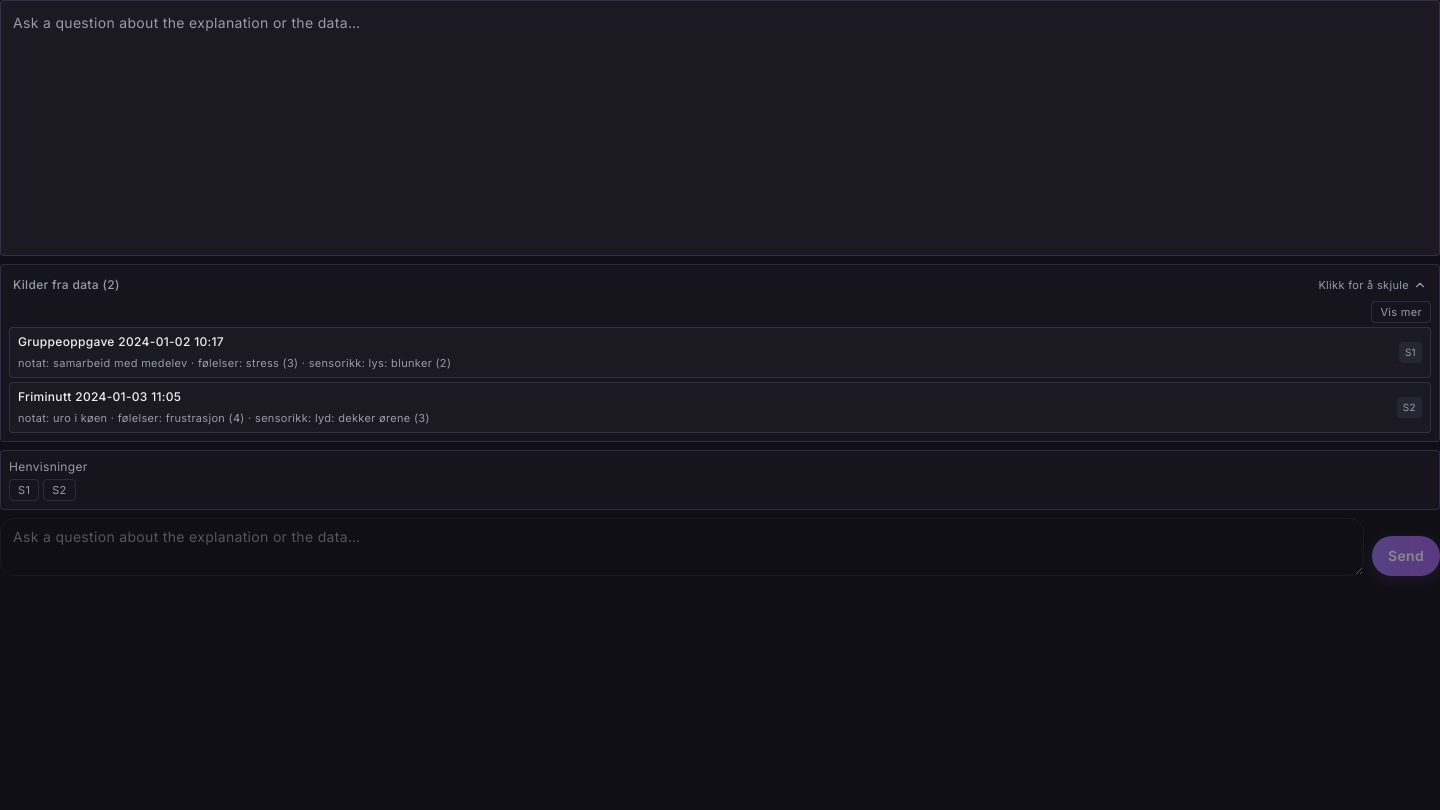
ExplanationChat citations and drawer › renders sources and opens drawer when clicking a source item
The image size is (1440, 810).
Expected: the text "Kilder fra data (2)" is shown, [13,277,120,293]
Note: Click first source button (by aria-label)
Click the button with aria-label "Åpne detaljer for Gruppeoppgave": x=121, y=342 [9,327,1431,378]
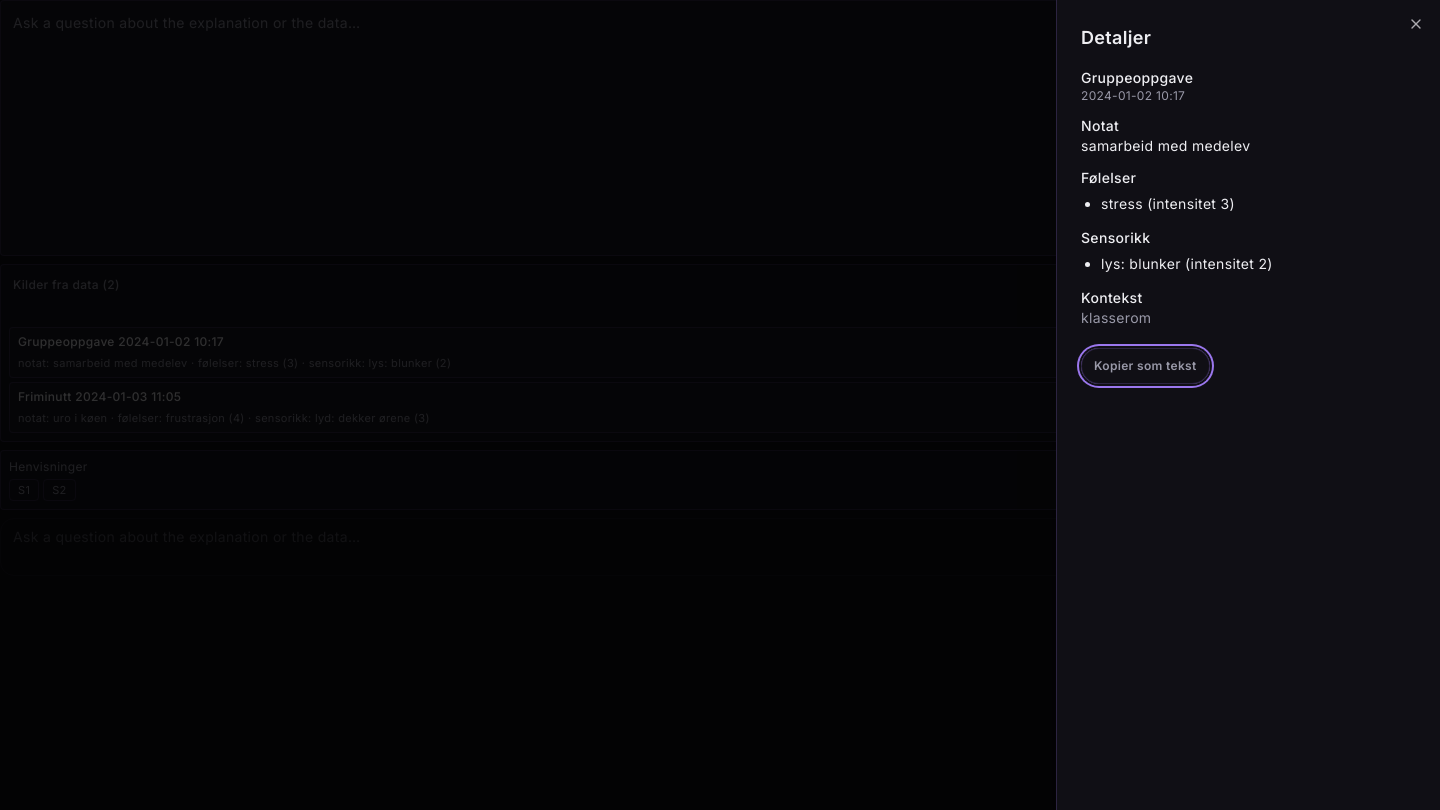
Expected: the heading "Detaljer" is shown, [1081,27,1151,48]
